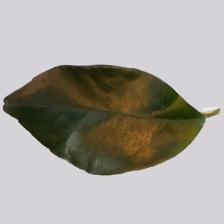healthy: (16, 64, 197, 170)
